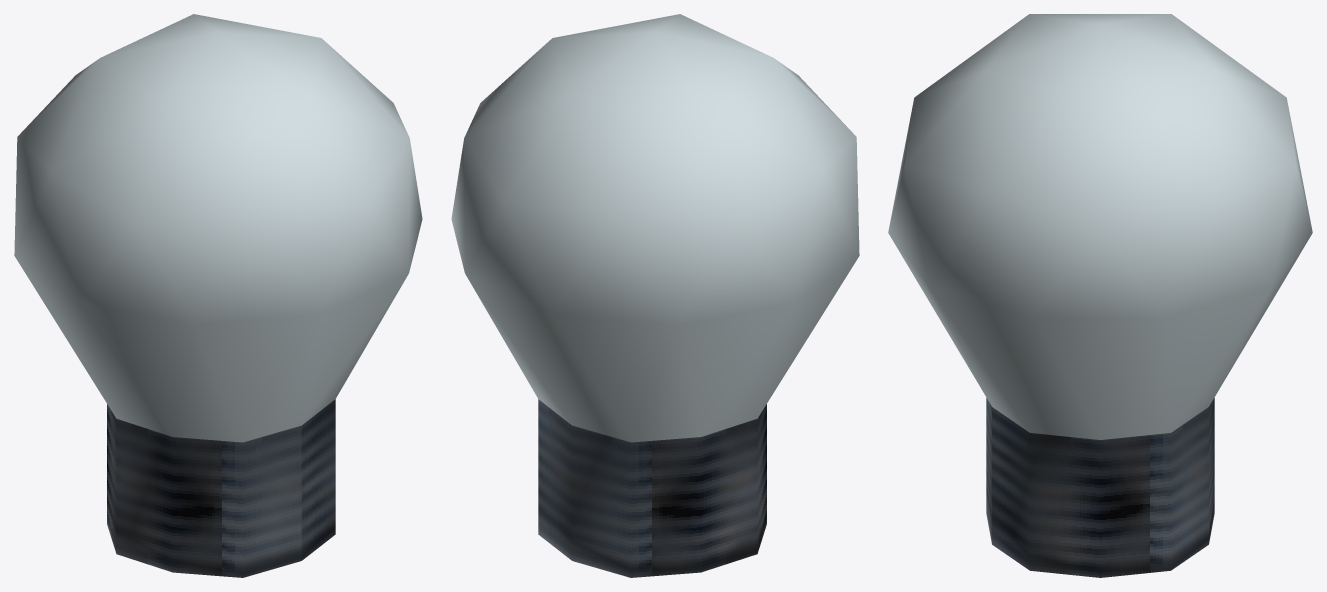
File: lightbulb.glb
3 renders of one model, left to right at view 1: azimuth 30°, elevation 25°; view 2: azimuth 150°, elevation 25°; view 3: azimuth 270°, elevation 25°, orthographic.
Parts seen in each view (by area): view 1: lightbulb_off; view 2: lightbulb_off; view 3: lightbulb_off.
Part boxes in pixels (left/top/right/bottom): lightbulb_off: left=14, top=14, right=422, bottom=577; lightbulb_off: left=451, top=14, right=859, bottom=577; lightbulb_off: left=888, top=14, right=1312, bottom=577.
Bounding box in the file's own units: 0.1488 × 0.2035 × 0.1549.
Materials: 2 (2 with a texture image).
